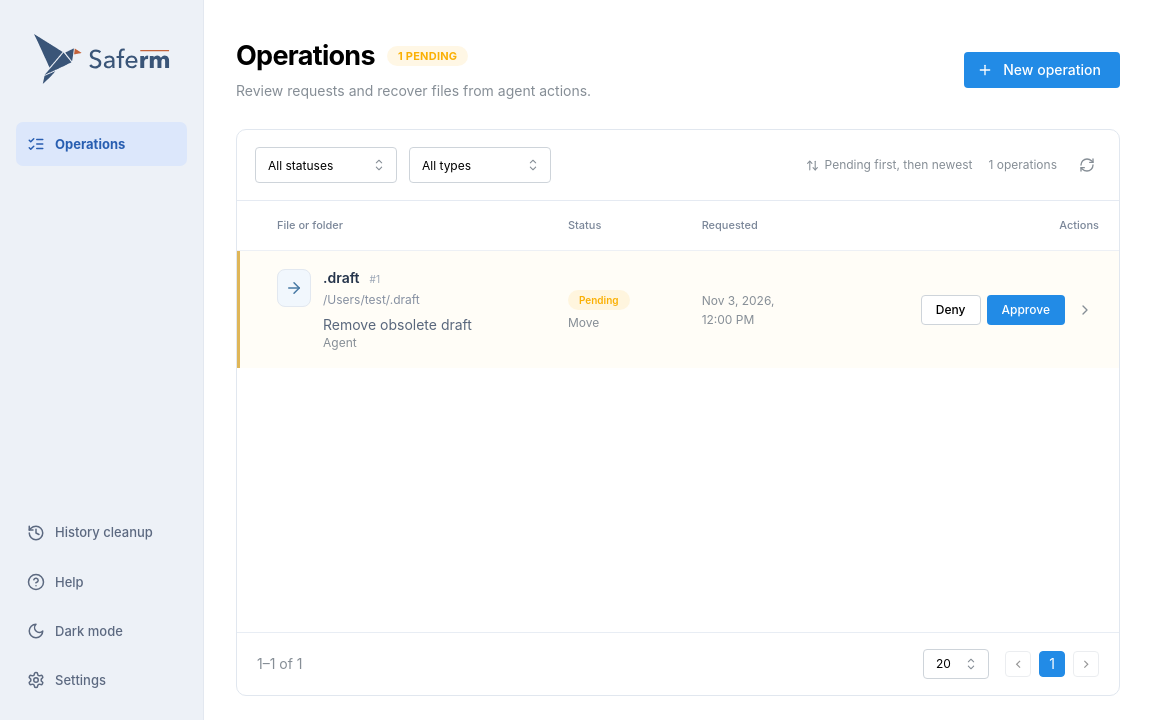
it: Operations interface › asks before linked approve with answer close
This screenshot has width=1152, height=720.
Click the button "Approve" at (1026, 310), box [986, 295, 1065, 325]
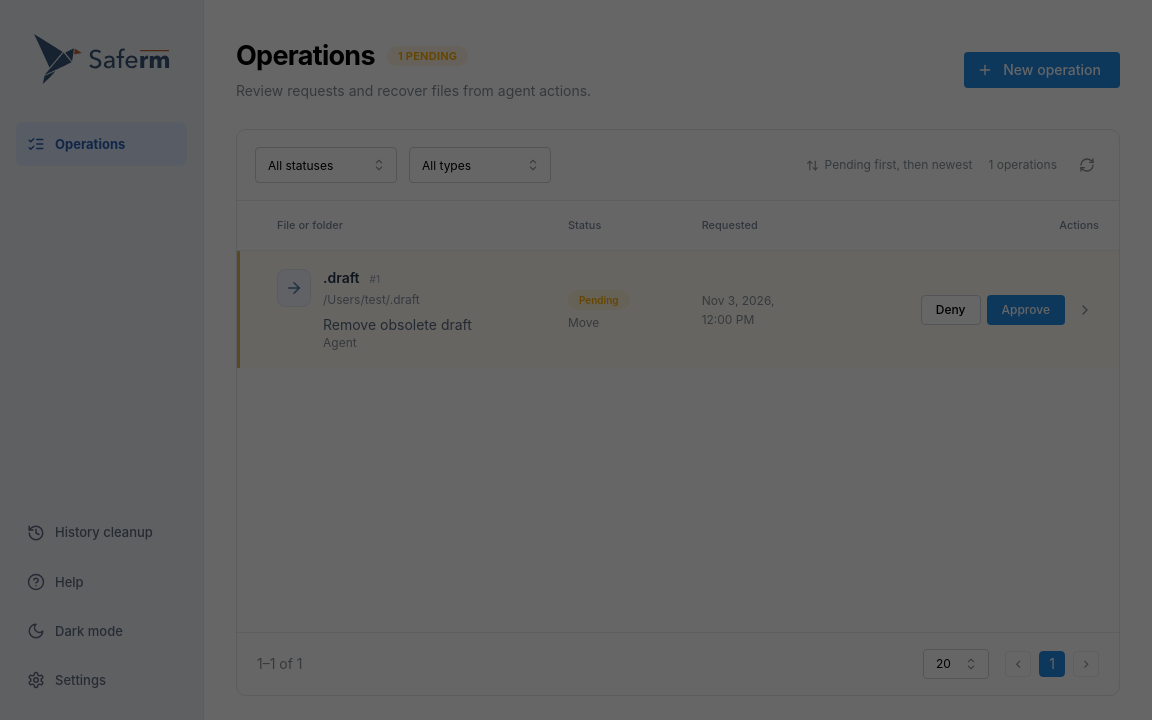
Expected: the text "Pending" is shown, [579, 291, 618, 309]
Press Escape
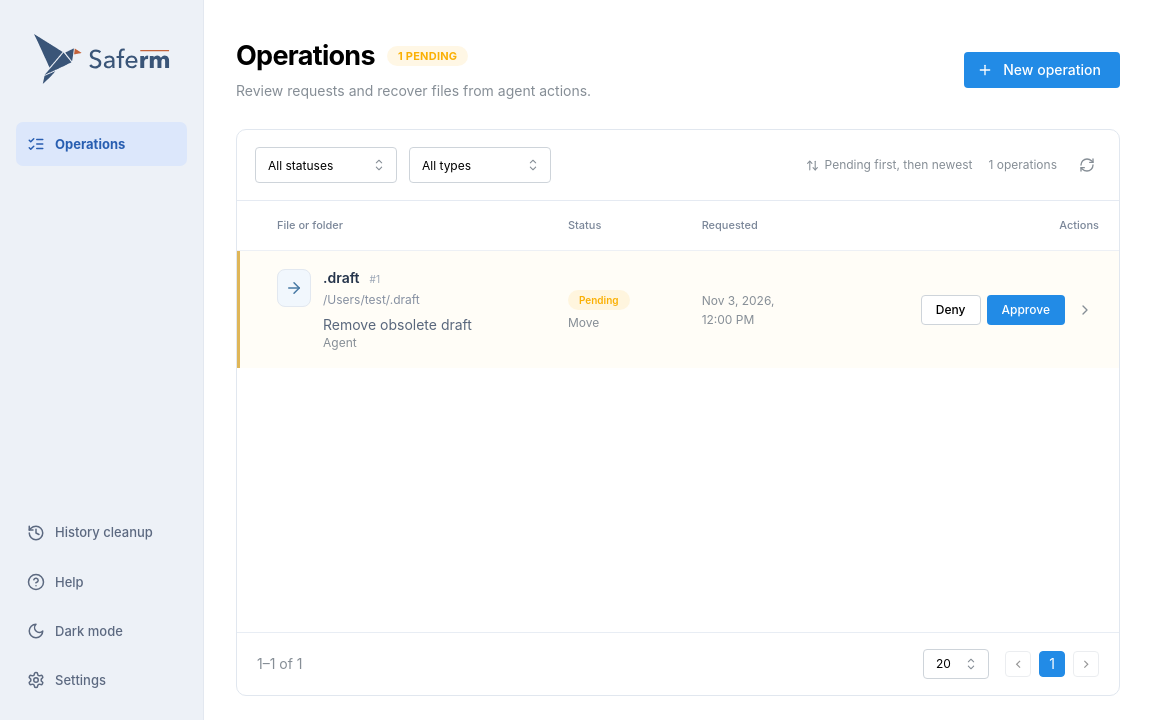
Expected: the dialog "Confirm operation" is gone
